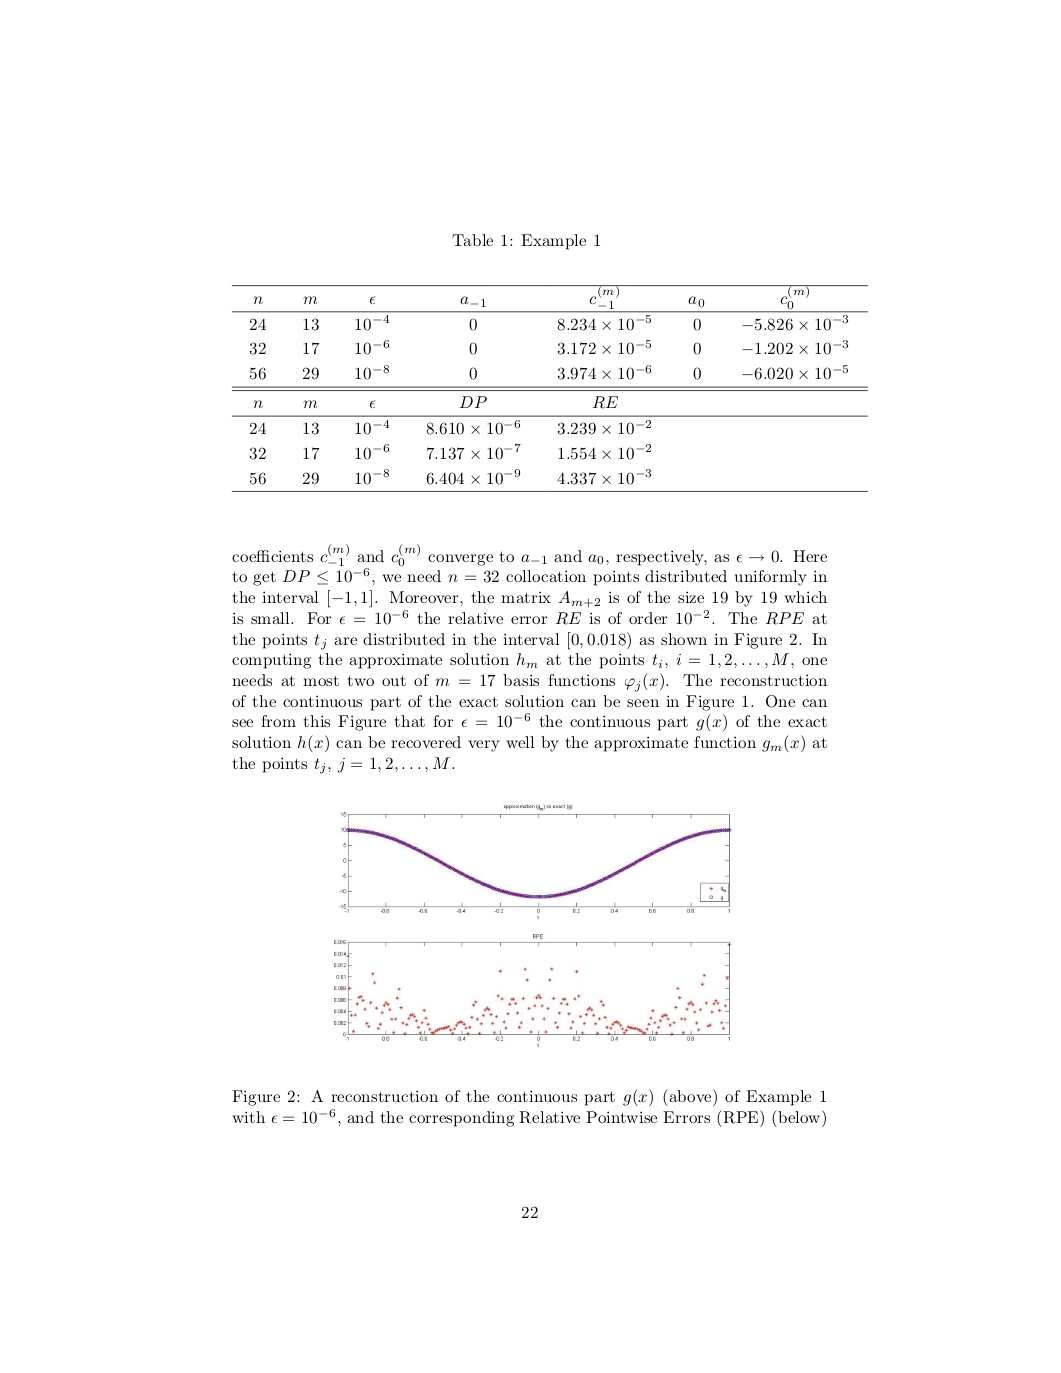Table: (231, 285, 867, 491)
figure: (334, 934, 731, 1046), (339, 804, 731, 913)
